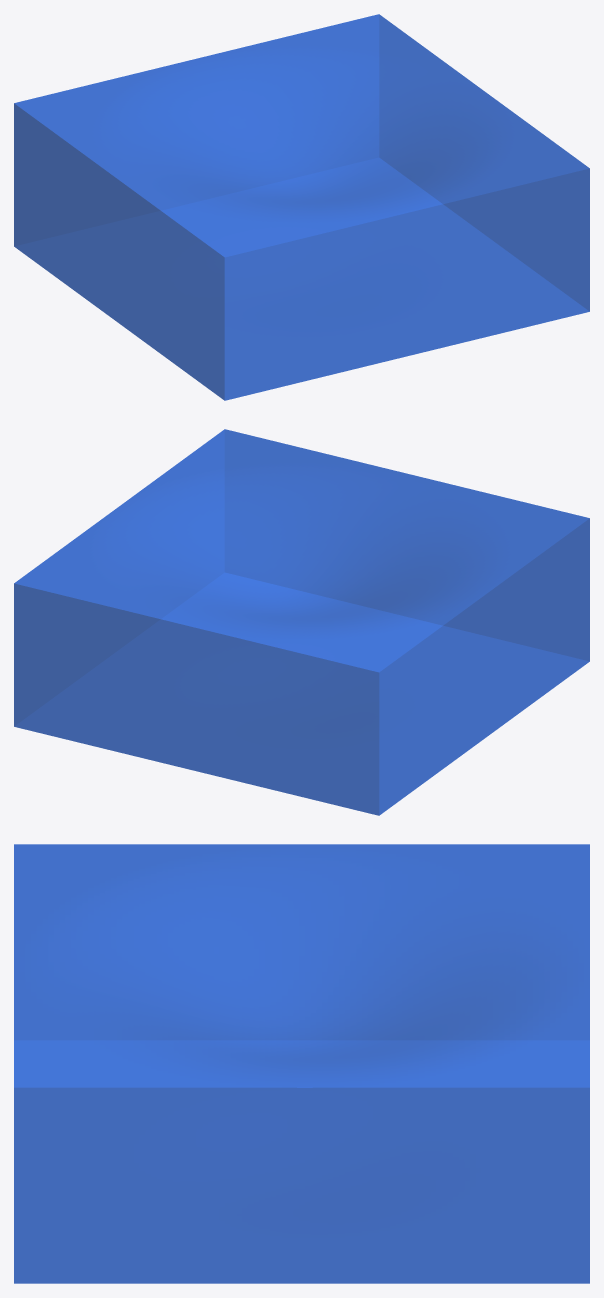
The model's file is zone1.fbx.
3 renders of one model, top to bottom at view 1: azimuth 30°, elevation 25°; view 2: azimuth 150°, elevation 25°; view 3: azimuth 270°, elevation 25°, orthographic. The views are drawn at different scales.
Visible parts, largest first — view 1: Cube; view 2: Cube; view 3: Cube.
Boxes of the visible parts, x1=… form: Cube: x1=14, y1=14, x2=589, y2=400; Cube: x1=14, y1=429, x2=589, y2=815; Cube: x1=14, y1=844, x2=589, y2=1283.
Bounding box in the file's own units: 200 × 78.78 × 200.
